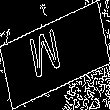M_S: (36, 24, 74, 86)
